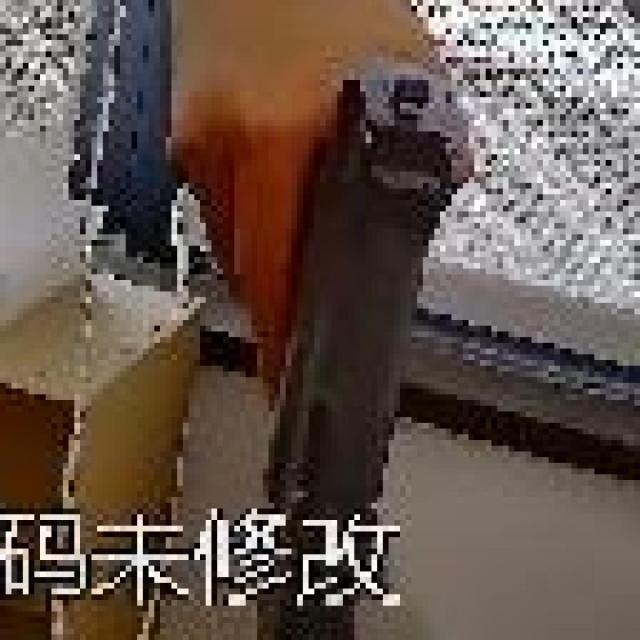pistol: (247, 55, 496, 640)
